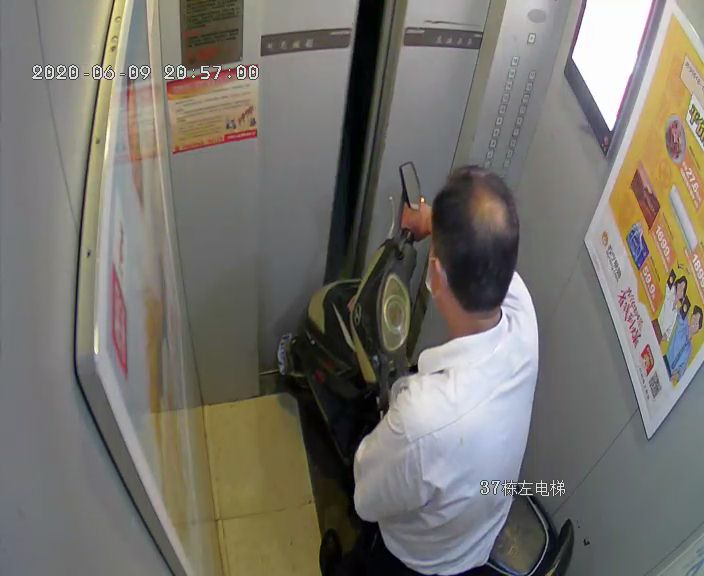Electric-bicycle: (295, 229, 551, 566)
